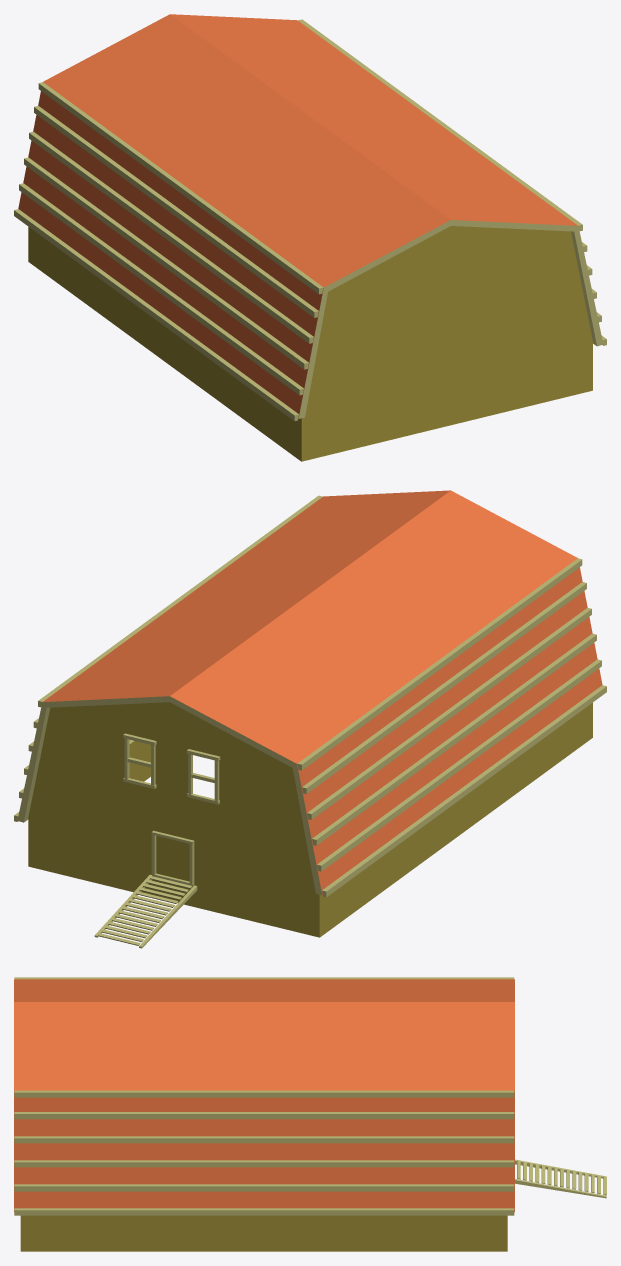
Rendered from Coup.fbx.
3 views of the same model, one above another, from view 1: azimuth 30°, elevation 25°; view 2: azimuth 150°, elevation 25°; view 3: azimuth 270°, elevation 25° (orthographic). The views are drawn at different scales.
Visible parts, largest first — view 1: Chicken_coup_geo; view 2: Chicken_coup_geo; view 3: Chicken_coup_geo.
Boxes of the visible parts, box(x1,y1,x2,y2) form: Chicken_coup_geo: box(14, 14, 606, 461); Chicken_coup_geo: box(14, 490, 606, 948); Chicken_coup_geo: box(14, 977, 606, 1251).
Size of the model in its own units: 24.32 by 15.54 by 44.86.
